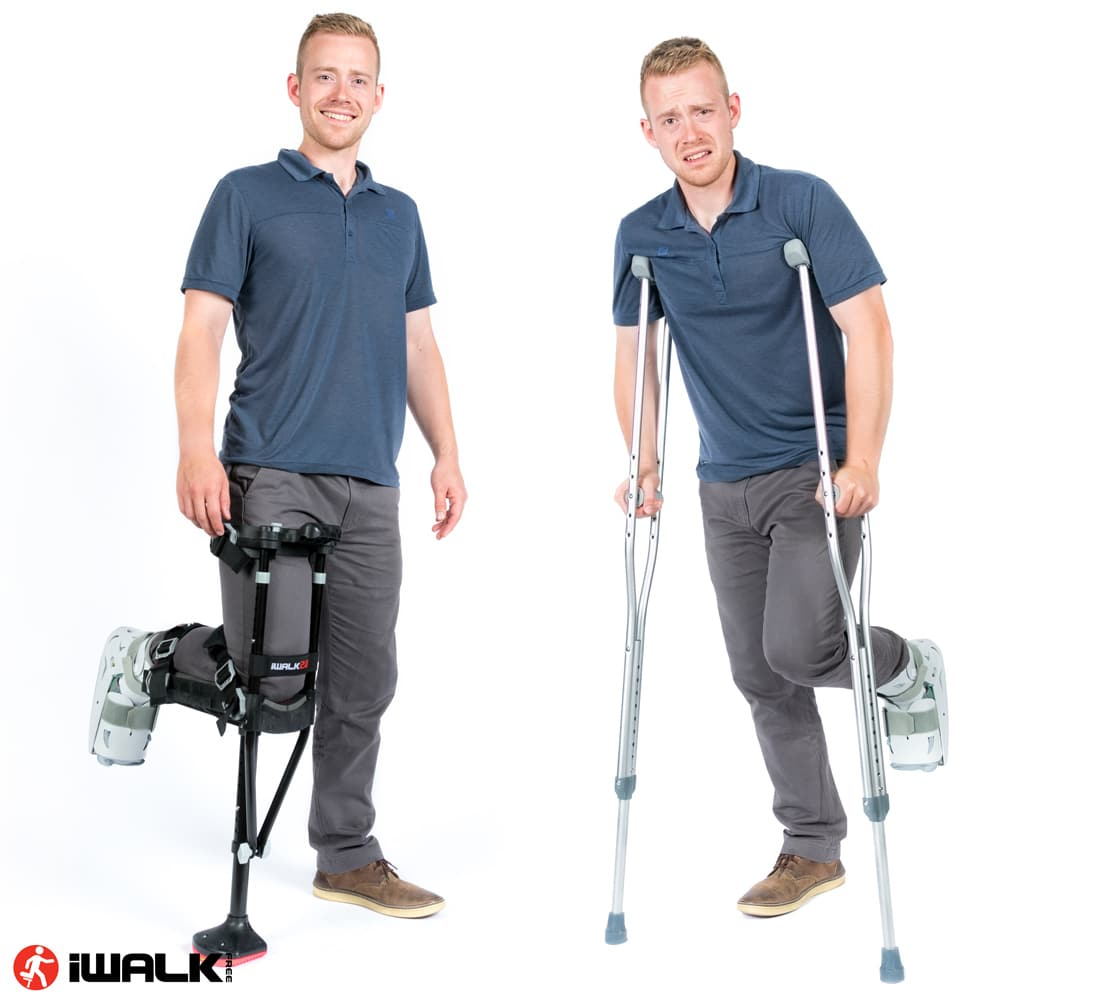crutches: (589, 34, 951, 985)
